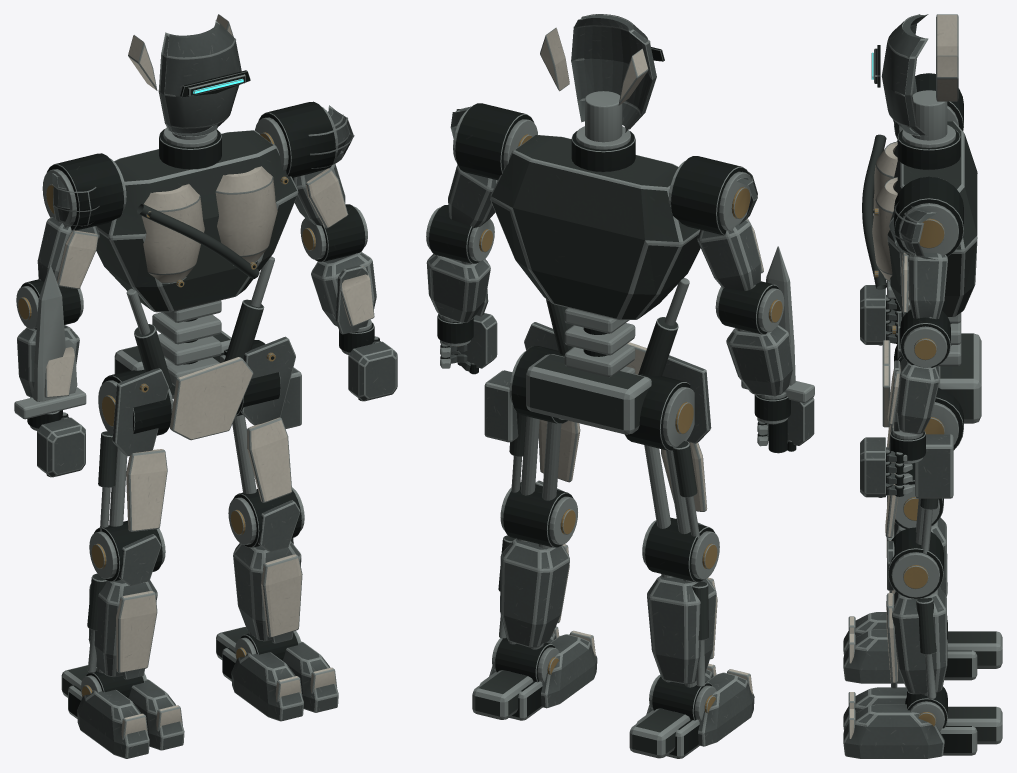
Rendered from speed-t1-hunter.glb.
3 renders of one model, left to right at view 1: azimuth 30°, elevation 25°; view 2: azimuth 150°, elevation 25°; view 3: azimuth 270°, elevation 25°, orthographic.
Parts seen in each view (by area): view 1: chest__metal, pelvis__metal, pelvis__clay, chest__clay, head__clay, kneeL__clay, kneeR__clay, ankleL__clay, ankleR__clay, shoulderR__metal, shoulderL__metal, elbowL__clay (+18 smaller); view 2: chest__metal, pelvis__metal, head__clay, kneeL__clay, kneeR__clay, shoulderR__metal, ankleL__metal, ankleR__metal, kneeR__metal, shoulderL__metal, kneeL__metal, elbowR__clay (+18 smaller); view 3: chest__metal, ankleL__clay, head__clay, kneeL__clay, pelvis__metal, kneeL__metal, shoulderL__metal, shoulderL__clay, ankleL__metal, ankleR__clay, elbowL__clay, hipL__clay (+13 smaller).
Part boxes in pixels (x1,y1,x2,y2): chest__metal: (96, 127, 298, 312); pelvis__metal: (98, 256, 280, 435); pelvis__clay: (112, 336, 295, 456); chest__clay: (141, 166, 277, 283); head__clay: (128, 14, 241, 136); kneeL__clay: (233, 500, 302, 643); kneeR__clay: (88, 534, 161, 679); ankleL__clay: (231, 641, 338, 721); ankleR__clay: (77, 679, 184, 758); shoulderR__metal: (39, 153, 126, 280); shoulderL__metal: (255, 101, 338, 177); elbowL__clay: (311, 251, 376, 334); chest__metal: (490, 126, 700, 320); pelvis__metal: (509, 278, 694, 450); head__clay: (540, 14, 656, 132); kneeL__clay: (500, 480, 569, 647); kneeR__clay: (647, 518, 717, 684); shoulderR__metal: (668, 156, 755, 287); ankleL__metal: (472, 638, 559, 720); ankleR__metal: (629, 675, 716, 758); kneeR__metal: (642, 517, 719, 687); shoulderL__metal: (453, 103, 537, 180); kneeL__metal: (498, 482, 577, 649); elbowR__clay: (726, 324, 793, 396); chest__metal: (862, 121, 977, 317); ankleL__clay: (843, 687, 944, 758); head__clay: (881, 14, 958, 136); kneeL__clay: (886, 541, 947, 694); pelvis__metal: (891, 299, 981, 450); kneeL__metal: (888, 527, 943, 699); shoulderL__metal: (894, 176, 963, 318); shoulderL__clay: (889, 202, 947, 319); ankleL__metal: (905, 686, 1002, 755); ankleR__clay: (843, 612, 903, 683); elbowL__clay: (887, 358, 939, 434); hipL__clay: (885, 434, 953, 537).
Bounding box in the file's own units: 2.4 × 4.3 × 0.9089.
11 materials, 10 textured.
